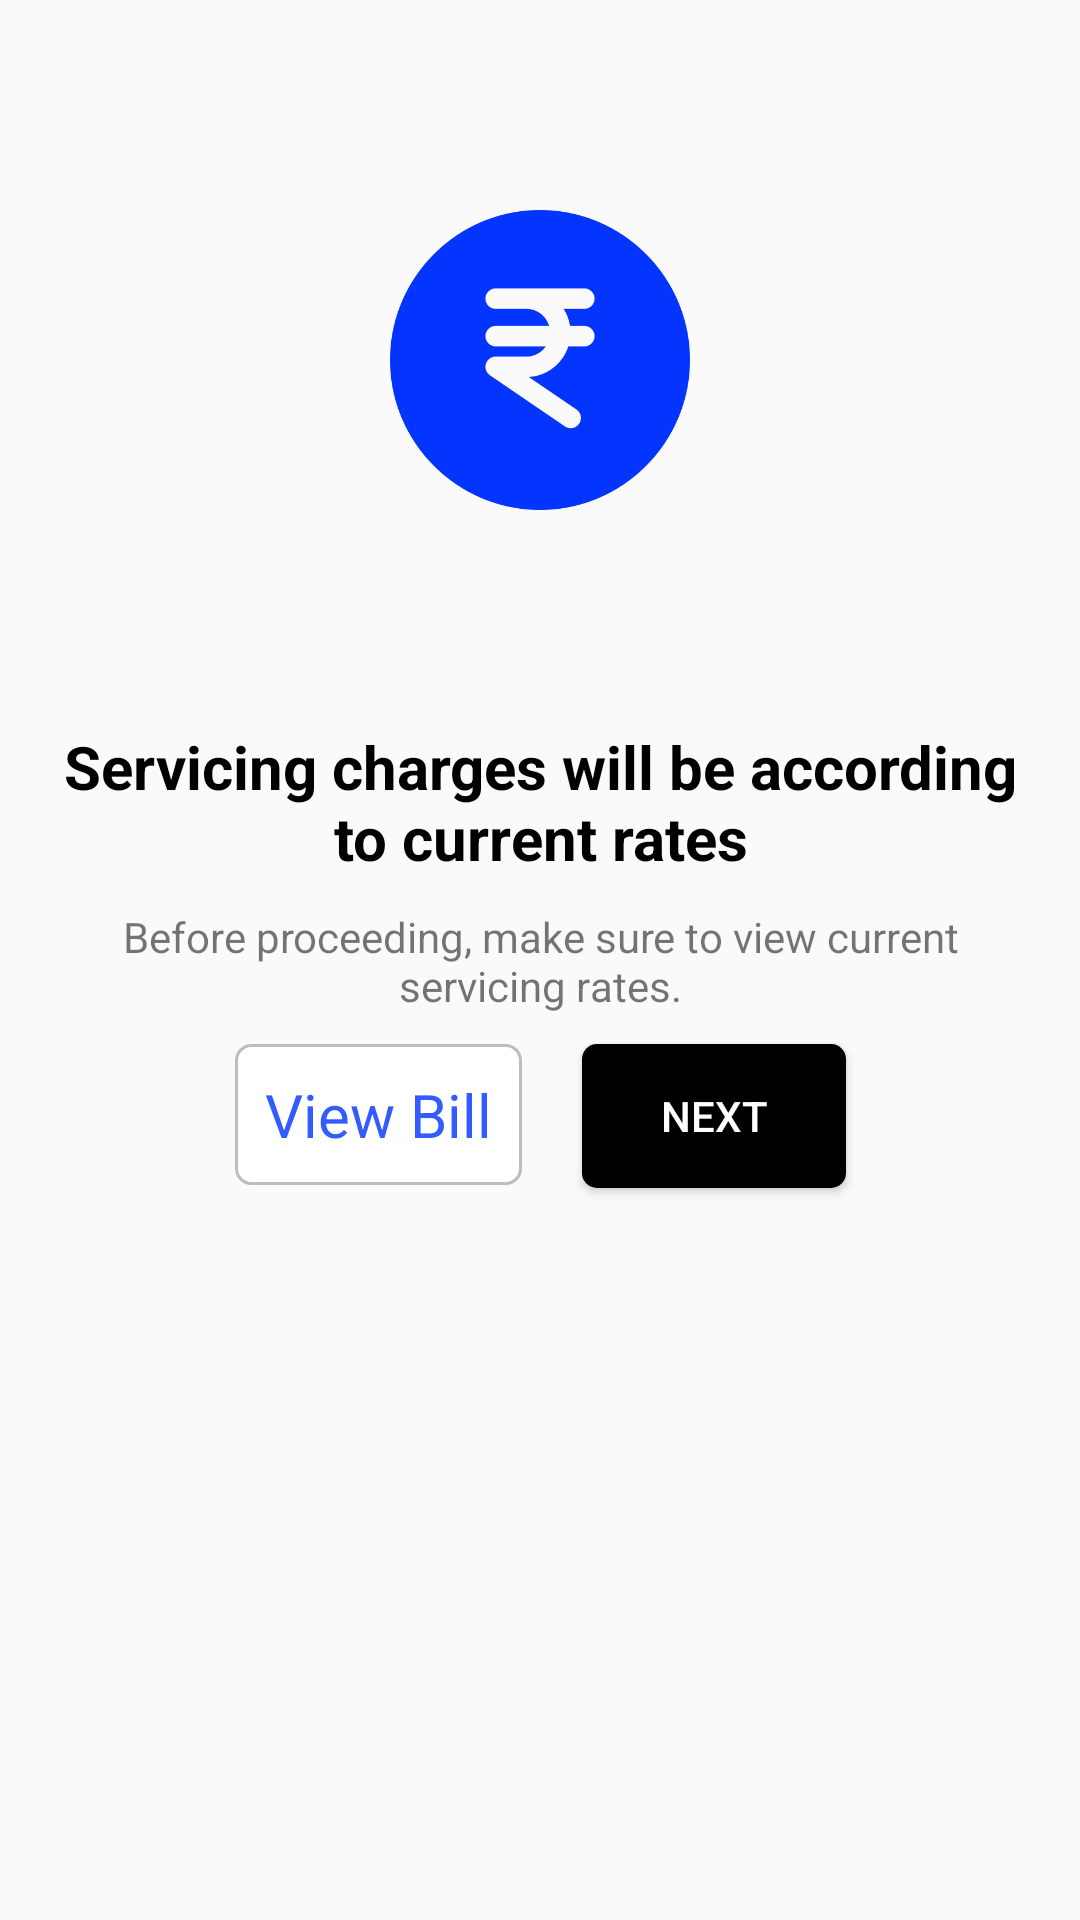

Where to tap for icons on this 1080x1920 app screen, as point (x, y):
rupee: point (540, 360)
